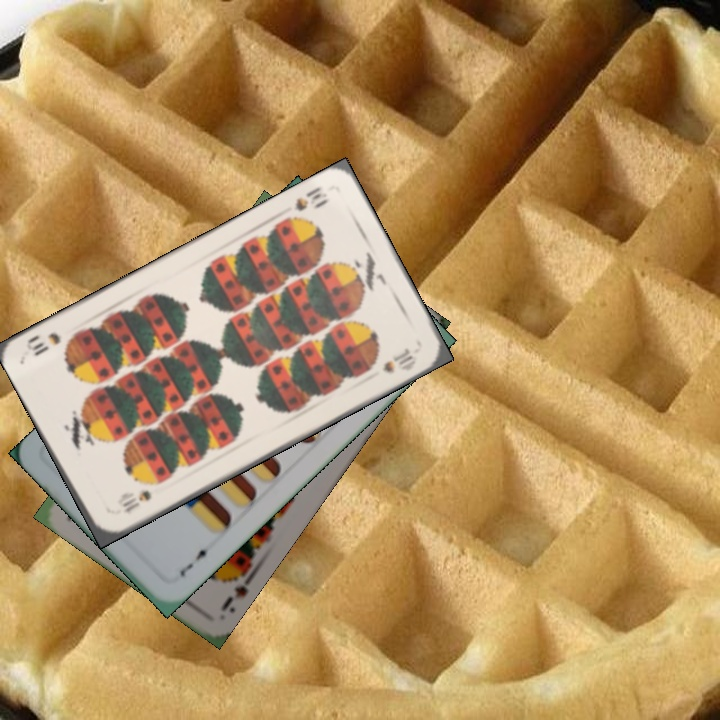E7: (175, 543, 215, 580)
S10: (291, 182, 332, 214), (118, 486, 154, 516)
S9: (217, 564, 258, 615)
